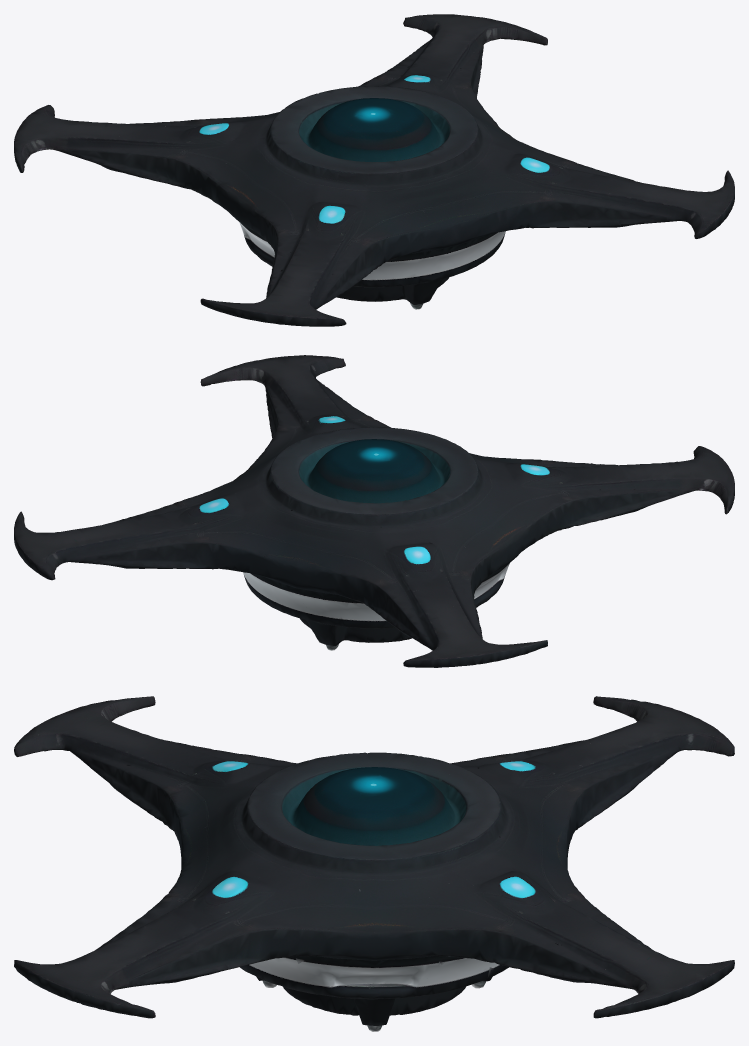
File: operator-drone.glb
3 views of the same model, one above another, from view 1: azimuth 30°, elevation 25°; view 2: azimuth 150°, elevation 25°; view 3: azimuth 270°, elevation 25° (orthographic). The views are drawn at different scales.
Bounding box in the file's own units: 1.91 × 0.5665 × 1.85.
Materials: 1 (1 with a texture image).
